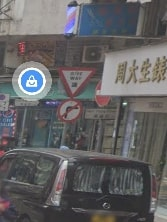Give Way: (55, 64, 93, 98)
No Turn Right: (60, 101, 84, 122)
